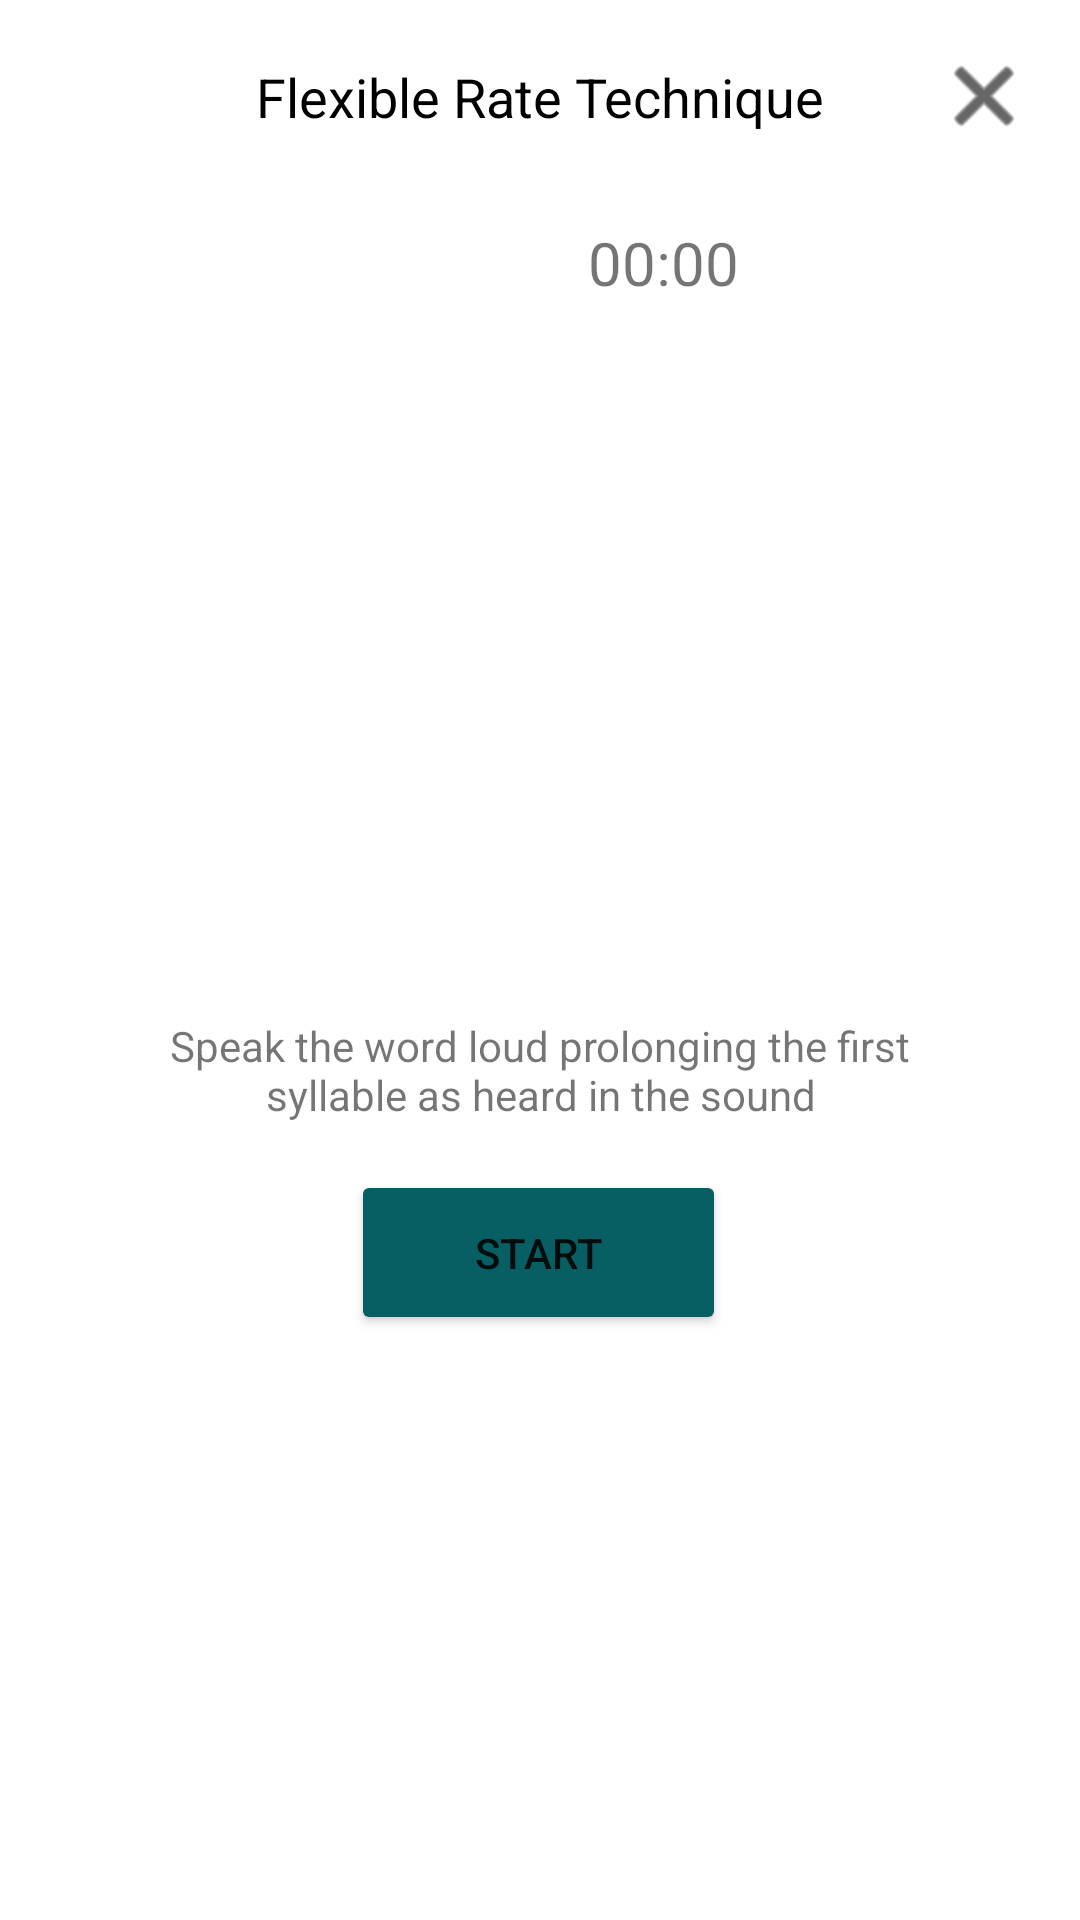

Screen size 1080x1920. Icon name, then its center in pixels as point (x, y):
close: point (984, 96)
